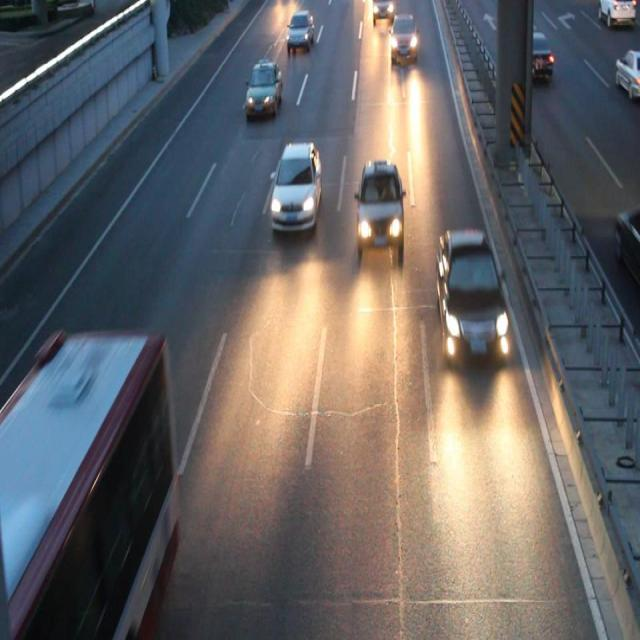car: (436, 230, 507, 358), (270, 143, 321, 229), (355, 164, 403, 252), (612, 207, 640, 286), (511, 30, 550, 78), (247, 65, 280, 113), (387, 15, 417, 61), (614, 48, 640, 98), (286, 13, 314, 45), (372, 1, 393, 24)
van: (1, 334, 176, 640)
